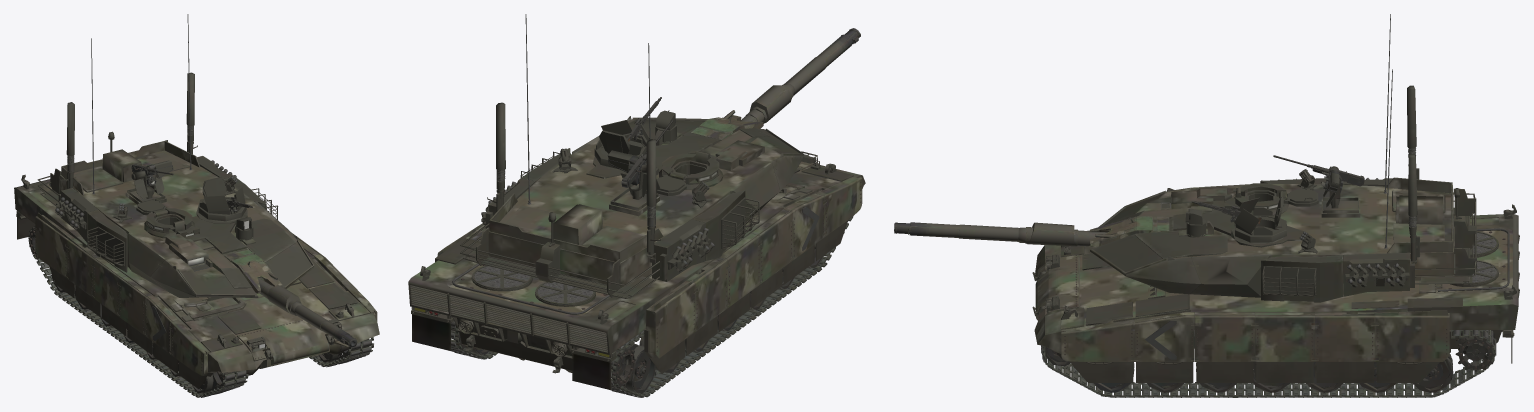
Rendered from tank.glb.
The picture shows the model from 3 angles, left to right: view 1: azimuth 30°, elevation 25°; view 2: azimuth 150°, elevation 25°; view 3: azimuth 270°, elevation 25°; orthographic projection. The views are drawn at different scales.
Visible parts, largest first — view 1: Object_18, Object_19, Object_10, Object_17, Object_13, Object_8, Object_12, Object_20, Object_4, Object_14, Object_2, Object_23; view 2: Object_18, Object_10, Object_19, Object_17, Object_12, Object_13, Object_8, Object_20, Object_22, Object_14, Object_5, Object_23 (+6 smaller); view 3: Object_18, Object_19, Object_10, Object_17, Object_12, Object_8, Object_13, Object_20, Object_14, Object_4, Object_5, Object_6 (+4 smaller).
Part boxes in pixels (left/top/right/bottom): Object_18: left=37, top=141, right=314, bottom=297; Object_19: left=35, top=180, right=377, bottom=375; Object_10: left=14, top=179, right=379, bottom=375; Object_17: left=55, top=72, right=278, bottom=270; Object_13: left=224, top=249, right=357, bottom=347; Object_8: left=28, top=227, right=373, bottom=397; Object_12: left=49, top=266, right=212, bottom=389; Object_20: left=28, top=227, right=369, bottom=392; Object_4: left=55, top=14, right=237, bottom=271; Object_14: left=21, top=140, right=354, bottom=359; Object_2: left=34, top=226, right=372, bottom=397; Object_23: left=67, top=125, right=249, bottom=229; Object_18: left=460, top=116, right=803, bottom=298; Object_10: left=408, top=165, right=865, bottom=389; Object_19: left=437, top=161, right=862, bottom=358; Object_17: left=481, top=102, right=759, bottom=272; Object_12: left=644, top=220, right=848, bottom=373; Object_13: left=691, top=28, right=860, bottom=140; Object_8: left=451, top=216, right=853, bottom=397; Object_20: left=451, top=246, right=822, bottom=393; Object_22: left=474, top=266, right=593, bottom=302; Object_14: left=420, top=151, right=836, bottom=373; Object_5: left=452, top=207, right=819, bottom=314; Object_23: left=496, top=119, right=675, bottom=226; Object_18: left=1090, top=177, right=1476, bottom=302; Object_19: left=1035, top=229, right=1512, bottom=361; Object_10: left=1034, top=214, right=1519, bottom=363; Object_17: left=1161, top=85, right=1461, bottom=296; Object_12: left=1056, top=330, right=1450, bottom=382; Object_8: left=1042, top=330, right=1495, bottom=397; Object_13: left=894, top=216, right=1169, bottom=247; Object_20: left=1045, top=330, right=1495, bottom=392; Object_14: left=1032, top=204, right=1516, bottom=333; Object_4: left=1160, top=14, right=1399, bottom=283; Object_5: left=1145, top=228, right=1509, bottom=359; Object_6: left=1191, top=155, right=1360, bottom=223.
Size of the model in its own units: 5.01 by 6.96 by 12.74.
Materials: 21 (19 with a texture image).
